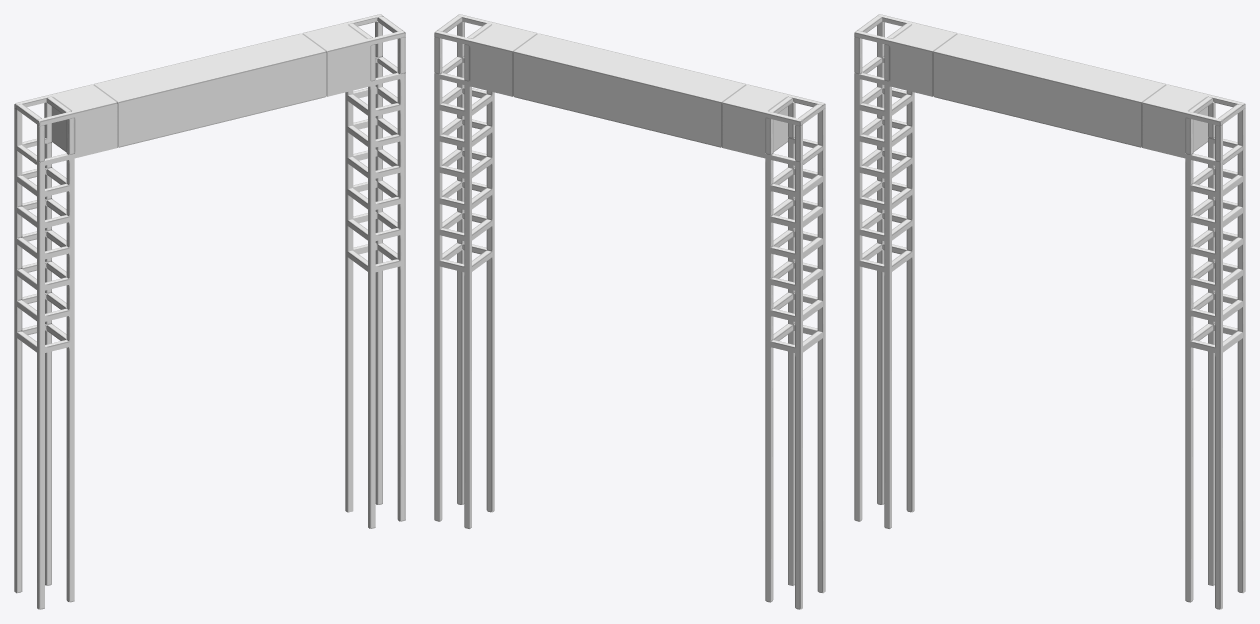
Rendered from goal.fbx.
3 views of the same model, side by side, from view 1: azimuth 30°, elevation 25°; view 2: azimuth 150°, elevation 25°; view 3: azimuth 330°, elevation 25° (orthographic).
Parts seen in each view (by area): view 1: mesh, mesh_1, mesh_2; view 2: mesh, mesh_1, mesh_2; view 3: mesh_1, mesh, mesh_2.
Part boxes in pixels (<box>): mesh: <box>14,84,117,609</box>; mesh_1: <box>302,14,405,528</box>; mesh_2: <box>94,33,326,147</box>; mesh: <box>722,84,825,609</box>; mesh_1: <box>434,14,537,528</box>; mesh_2: <box>513,33,745,147</box>; mesh_1: <box>1142,84,1245,609</box>; mesh: <box>854,14,957,528</box>; mesh_2: <box>933,33,1165,147</box>.
Size of the model in its own units: 844 by 1075 by 100.
2 materials, 2 textured.
